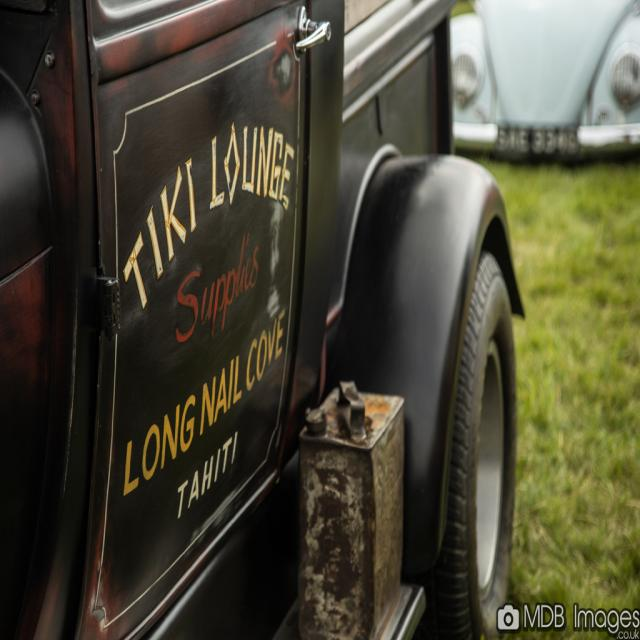car: (0, 0, 464, 635)
